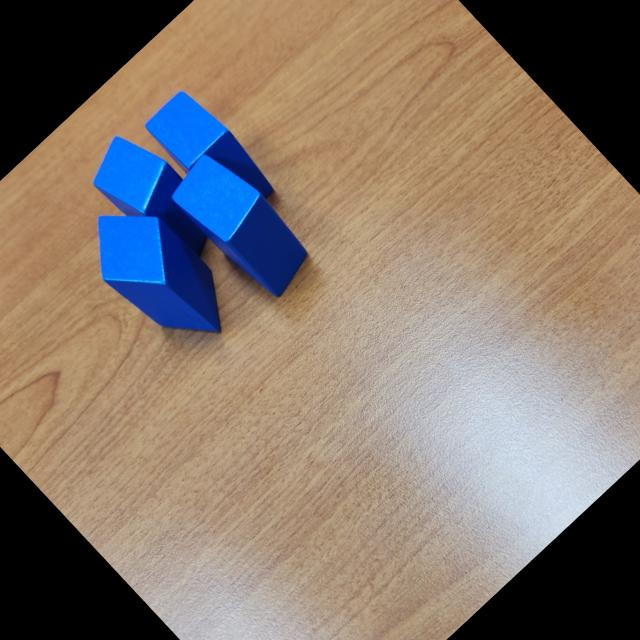blue: (68, 182, 248, 366), (162, 142, 322, 306), (80, 122, 228, 274), (142, 83, 282, 228)
